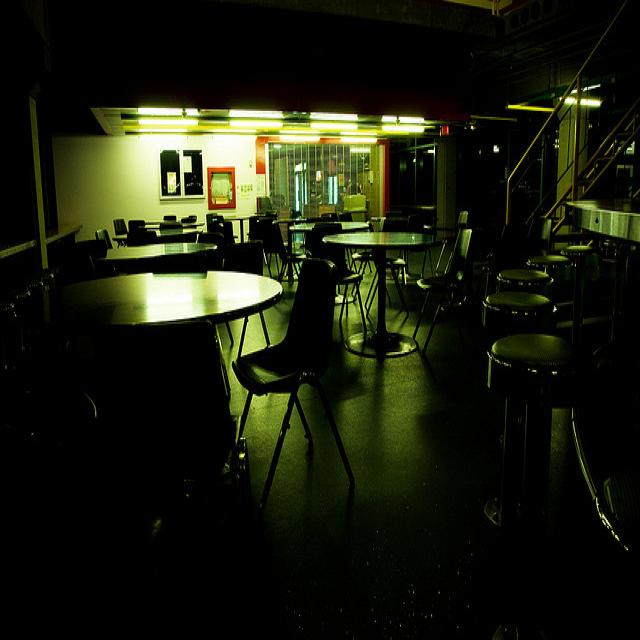Table: (51, 236, 293, 436), (322, 219, 440, 371), (93, 207, 232, 293)
chair: (236, 237, 347, 483), (489, 319, 595, 487), (467, 272, 576, 344)
